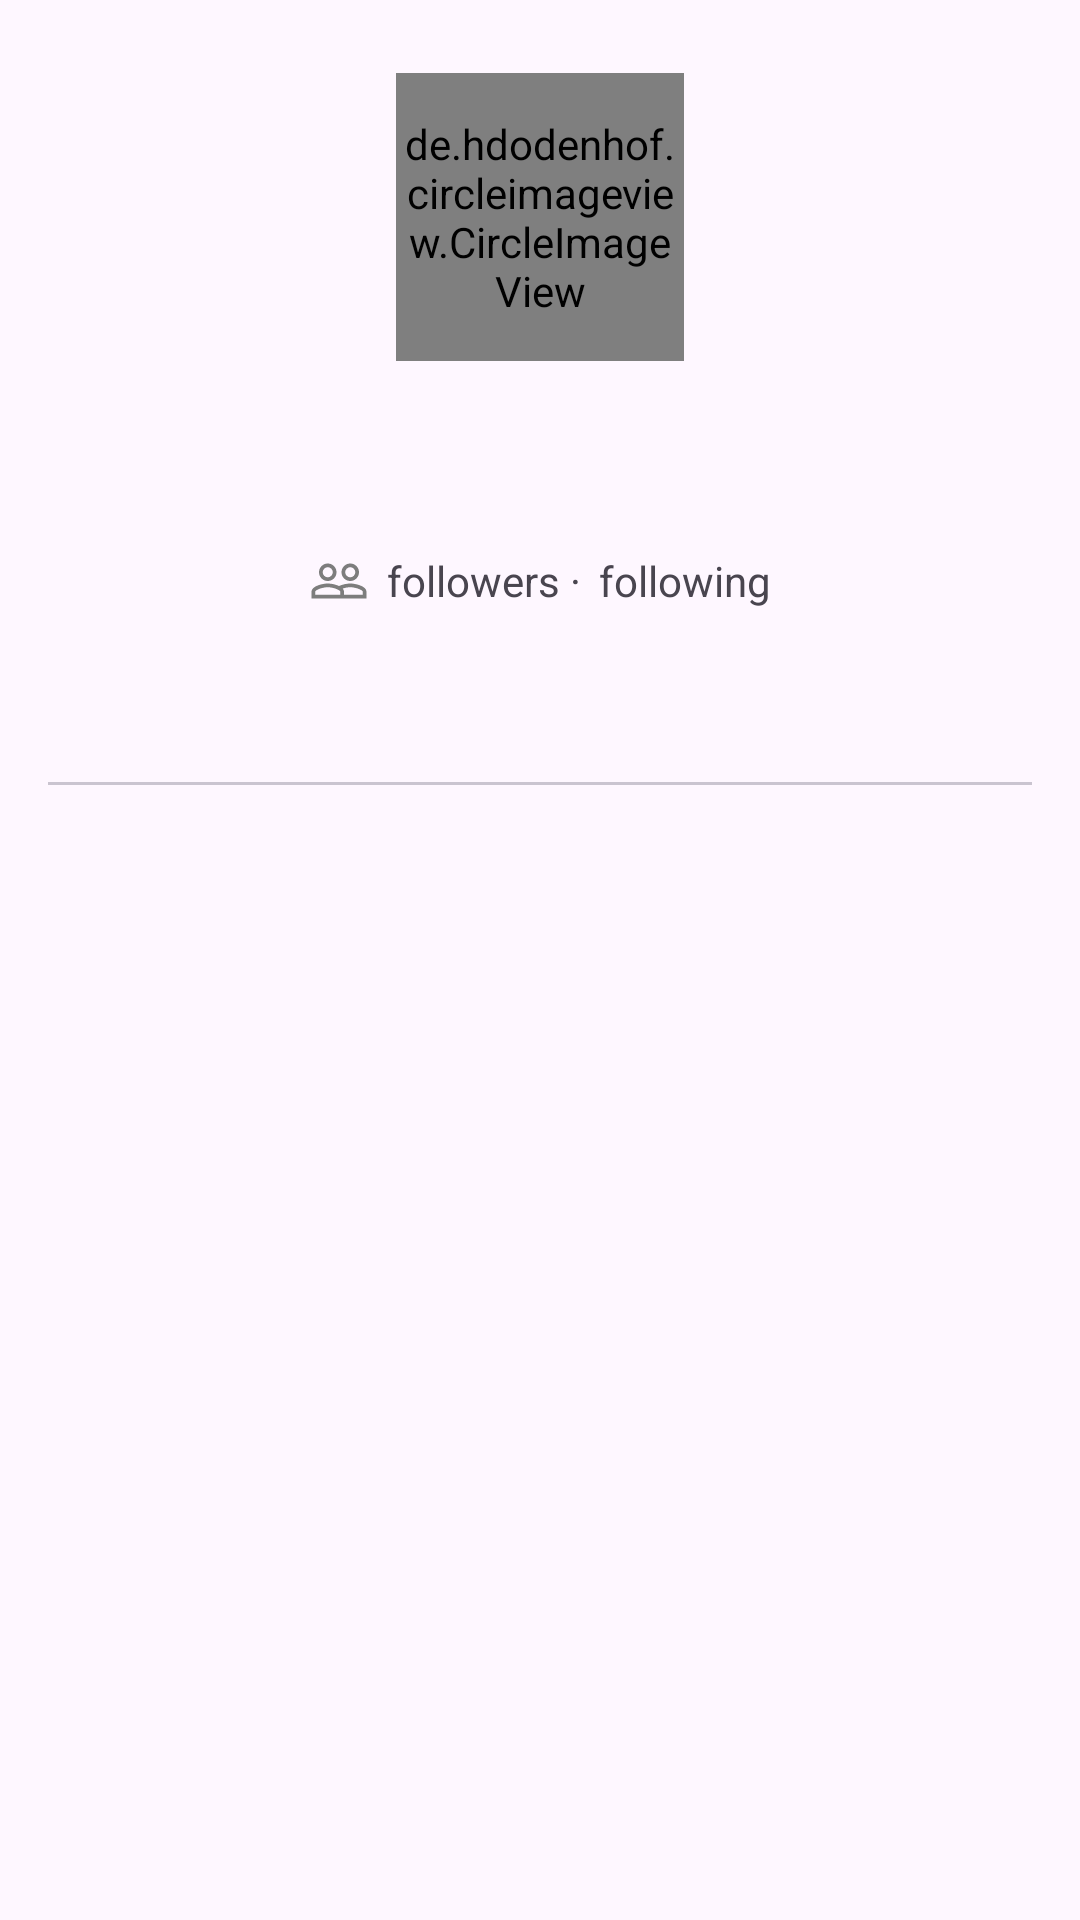

Screen size 1080×1920. Icon name, then its box in pixels as [x1=x1, y1=y1, x2=x2, y2=y2]:
people: [x1=311, y1=563, x2=367, y2=599]
